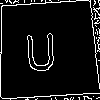U: (23, 25, 58, 72)
